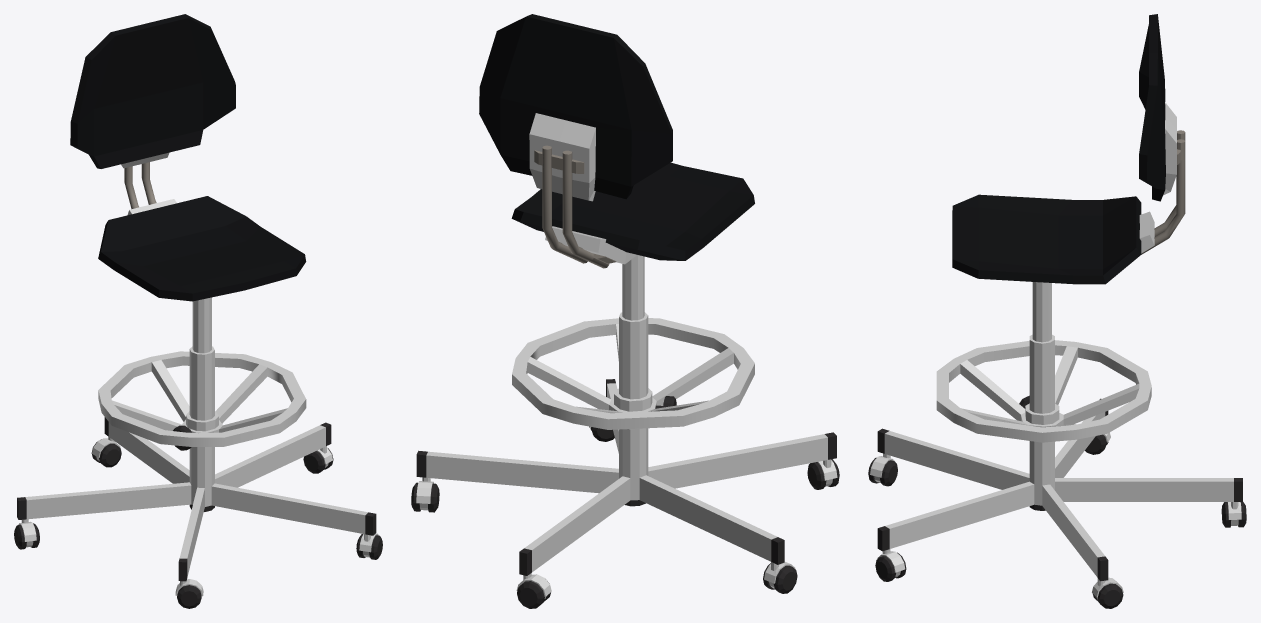
File: Chair 2.fbx
3 renders of one model, left to right at view 1: azimuth 30°, elevation 25°; view 2: azimuth 150°, elevation 25°; view 3: azimuth 270°, elevation 25°, orthographic. The views are drawn at different scales.
Visible parts, largest first — view 1: Lab_Chair_2:Lab_chair_base; view 2: Lab_Chair_2:Lab_chair_base; view 3: Lab_Chair_2:Lab_chair_base.
Part boxes in pixels (box(x1,y1,x2,y2)): Lab_Chair_2:Lab_chair_base: box(14, 14, 382, 608); Lab_Chair_2:Lab_chair_base: box(411, 14, 839, 608); Lab_Chair_2:Lab_chair_base: box(868, 14, 1246, 608).
Size of the model in its own units: 0.8783 by 1.22 by 0.8454.
